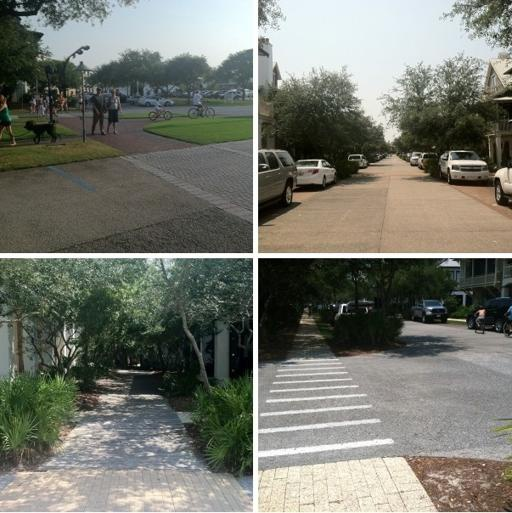non-vehicle: (186, 101, 216, 120), (147, 107, 172, 121), (473, 315, 485, 333), (502, 311, 511, 335)
